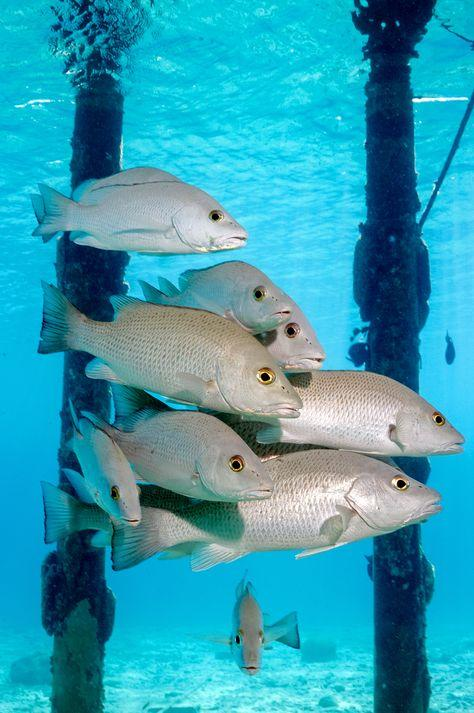fish: (111, 448, 450, 576), (36, 279, 303, 421), (234, 370, 466, 457), (29, 165, 248, 255), (82, 408, 275, 500), (127, 261, 299, 334), (43, 480, 190, 559), (64, 391, 142, 530), (211, 569, 300, 675), (251, 308, 323, 375)
